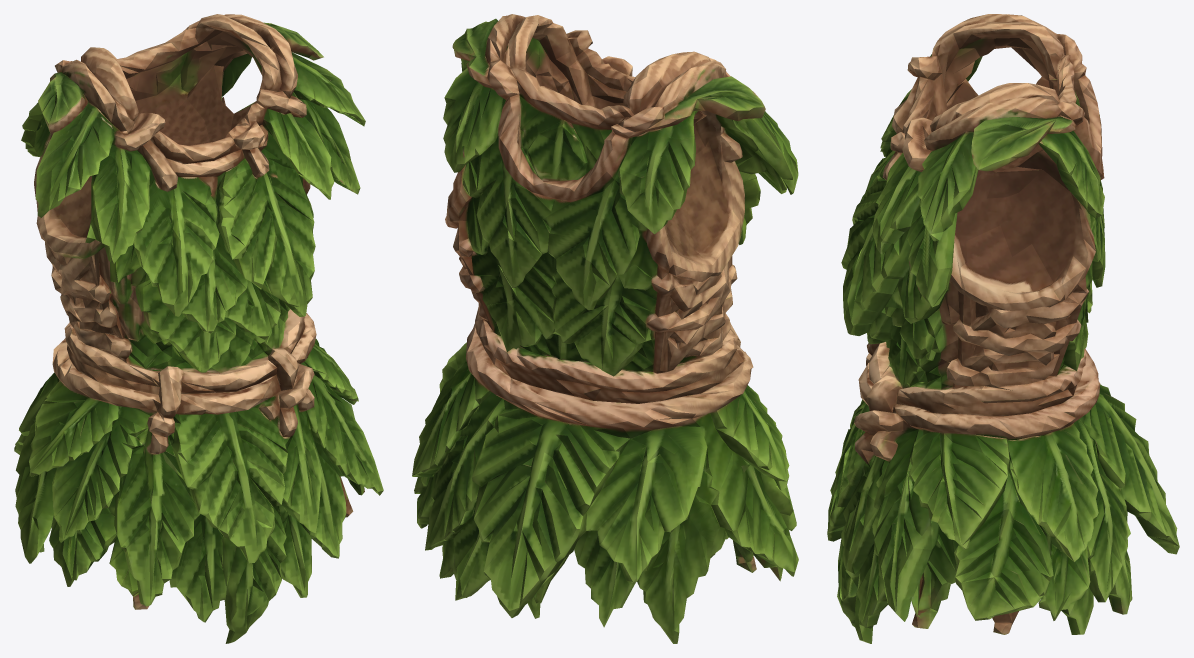
Rendered from Meshy_AI_Leafwoven_Tunic_1015215256_texture.fbx.
The picture shows the model from 3 angles, left to right: view 1: azimuth 30°, elevation 25°; view 2: azimuth 150°, elevation 25°; view 3: azimuth 270°, elevation 25°; orthographic projection. The views are drawn at different scales.
Parts seen in each view (by area): view 1: output_unwrapped; view 2: output_unwrapped; view 3: output_unwrapped.
Boxes of the visible parts, x1,y1,x2,y2 form: output_unwrapped: (14, 14, 383, 643); output_unwrapped: (412, 14, 798, 643); output_unwrapped: (827, 14, 1179, 643).
Size of the model in its own units: 117 by 190 by 103.
1 material, 1 textured.
